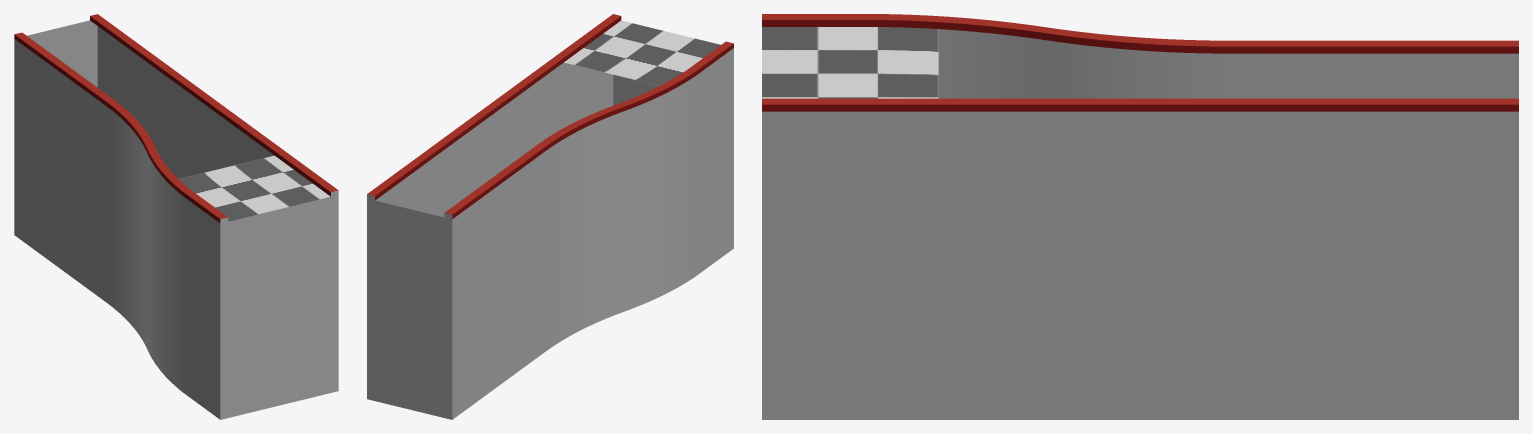
File: Road_Curve_08.fbx
3 views of the same model, side by side, from view 1: azimuth 30°, elevation 25°; view 2: azimuth 150°, elevation 25°; view 3: azimuth 270°, elevation 25° (orthographic). The views are drawn at different scales.
Parts seen in each view (by area): view 1: Road_Curve_08, Road_Curve_08_Border; view 2: Road_Curve_08, Road_Curve_08_Border; view 3: Road_Curve_08, Road_Curve_08_Border.
Part boxes in pixels (box(x1,y1,x2,y2)): Road_Curve_08: box(14, 20, 338, 419); Road_Curve_08_Border: box(14, 14, 338, 223); Road_Curve_08: box(367, 20, 733, 419); Road_Curve_08_Border: box(367, 14, 733, 219); Road_Curve_08: box(762, 27, 1518, 419); Road_Curve_08_Border: box(762, 14, 1518, 111).
Size of the model in its own units: 540 by 876 by 1906.
